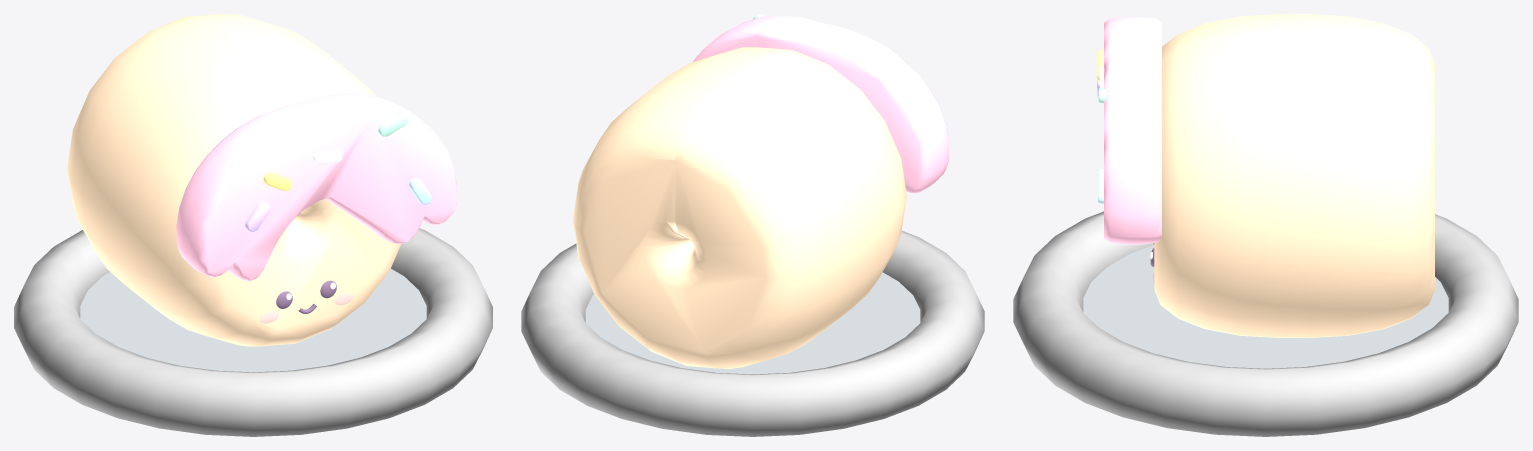
The model's file is life_donut.glb.
3 renders of one model, left to right at view 1: azimuth 30°, elevation 25°; view 2: azimuth 150°, elevation 25°; view 3: azimuth 270°, elevation 25°, orthographic. The views are drawn at different scales.
Visible parts, largest first — view 1: wrap_donut_1, life_donut; view 2: wrap_donut_1, life_donut; view 3: wrap_donut_1, life_donut.
Boxes of the visible parts, bbox=[...] form: wrap_donut_1: bbox=[67, 14, 456, 346]; life_donut: bbox=[14, 228, 492, 436]; wrap_donut_1: bbox=[573, 14, 949, 368]; life_donut: bbox=[521, 231, 984, 436]; wrap_donut_1: bbox=[1097, 14, 1434, 337]; life_donut: bbox=[1013, 211, 1518, 436].
Bounding box in the file's own units: 4.9 × 3.35 × 4.87.
